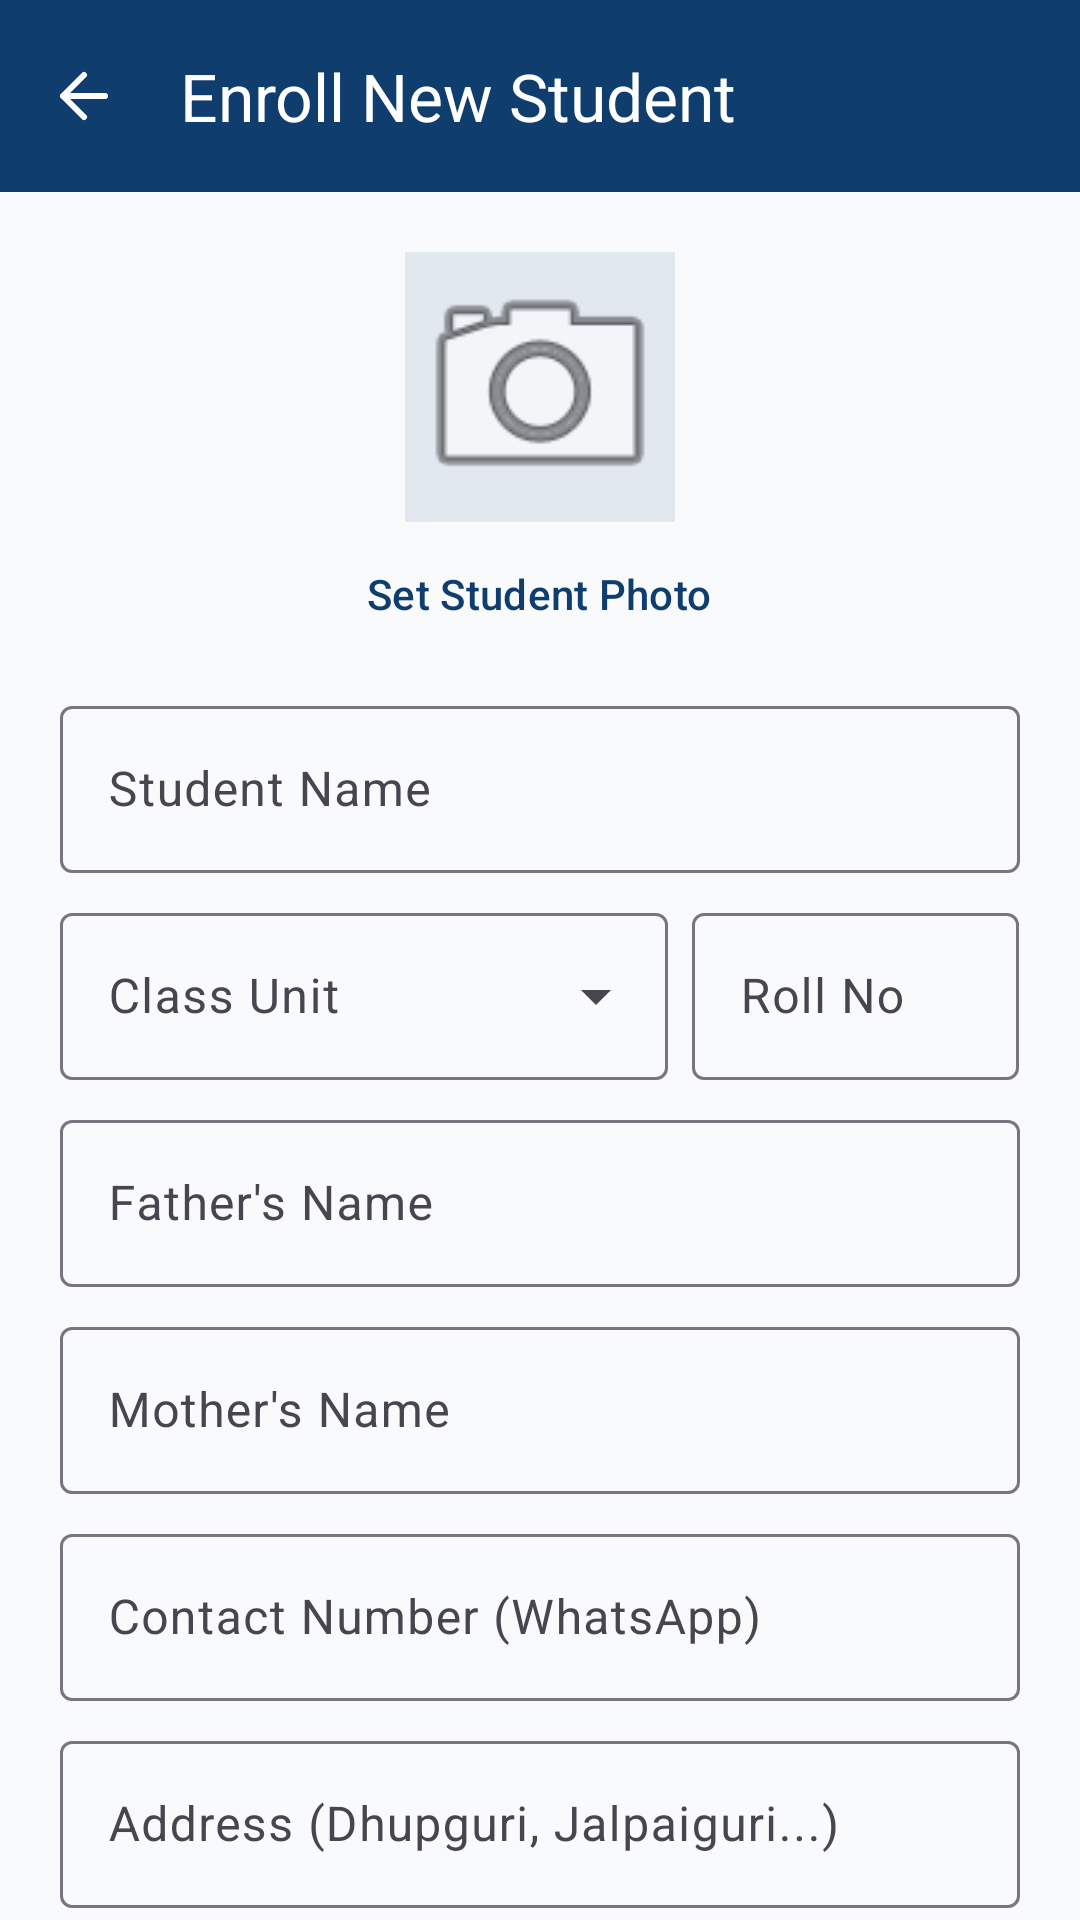

Icon bounding boxes for this 1080×1920 phone screenshot, format (x1, y1, x2, y2):
camera: (405, 252, 675, 522)
